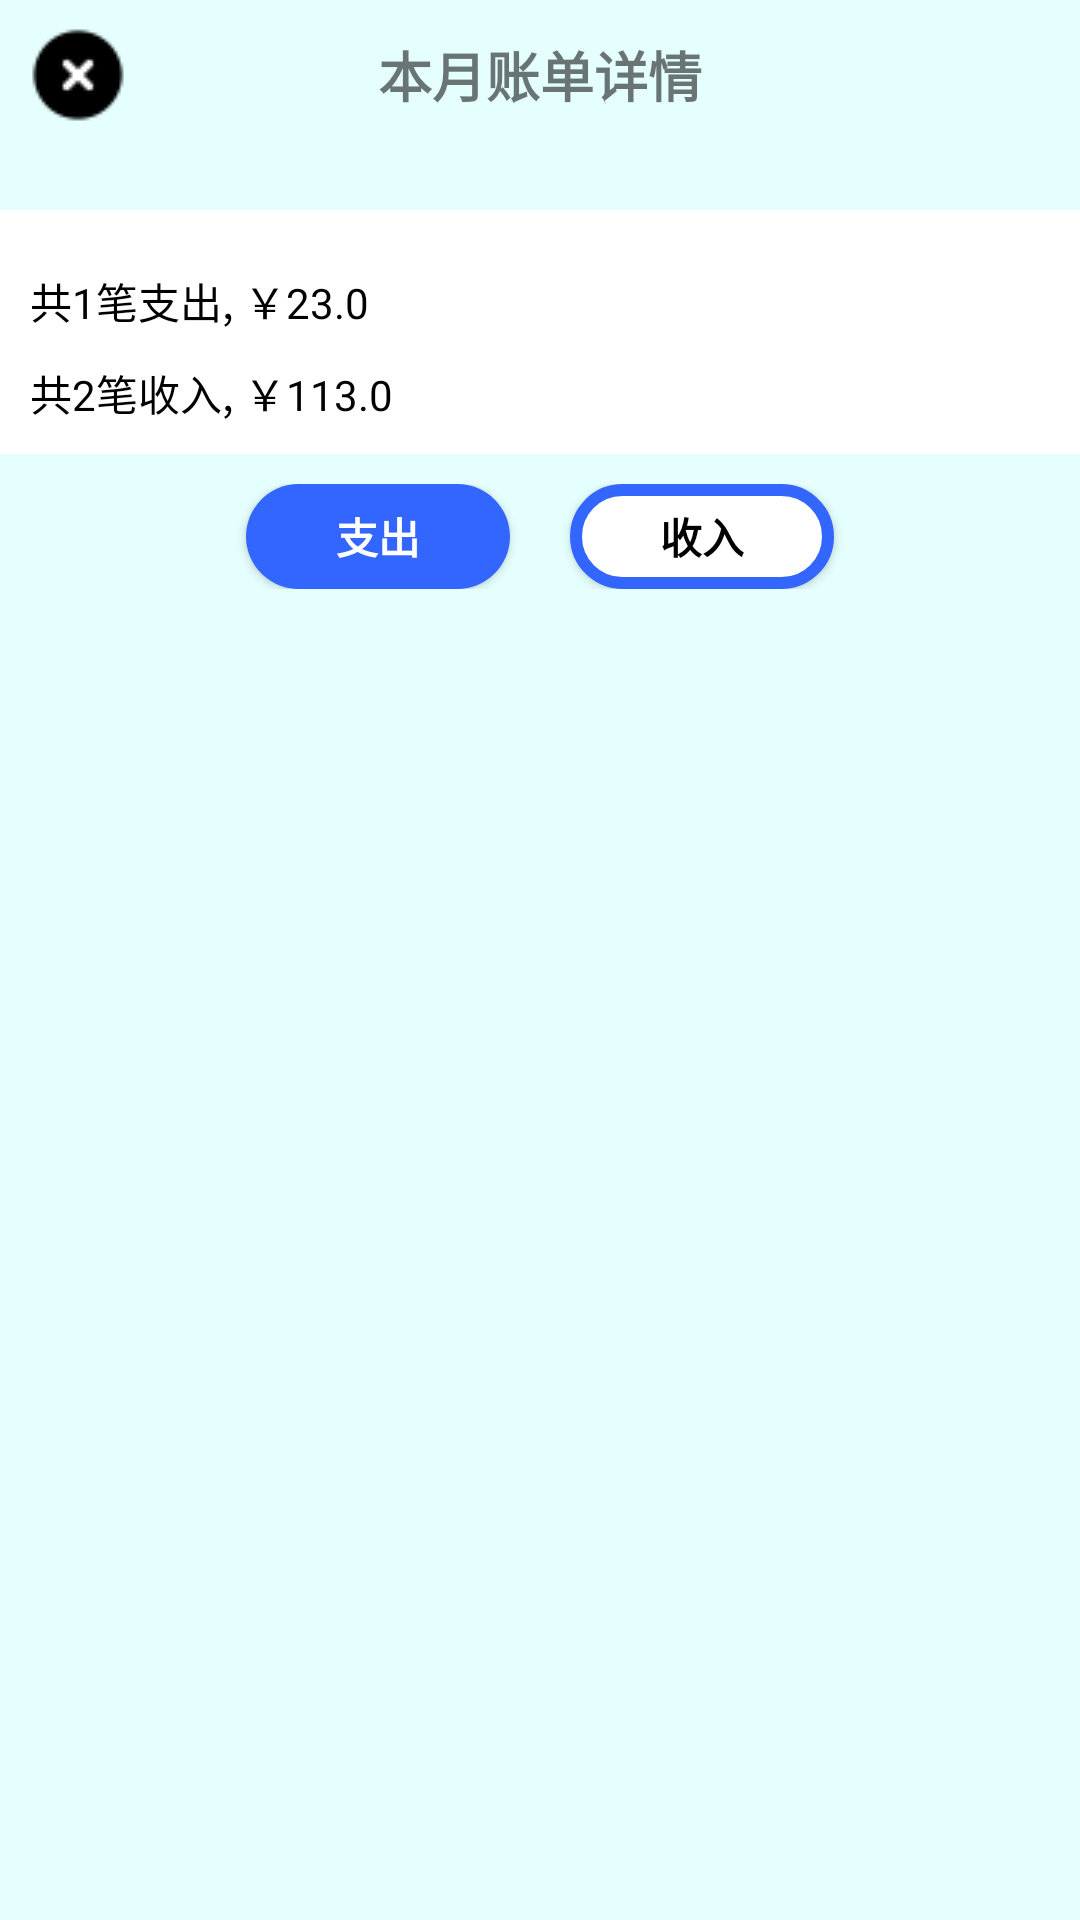

Where icons sit on this 1080*1920 app screen, as [x1,y1,x2,y2]:
ih error: [32,29,124,121]
